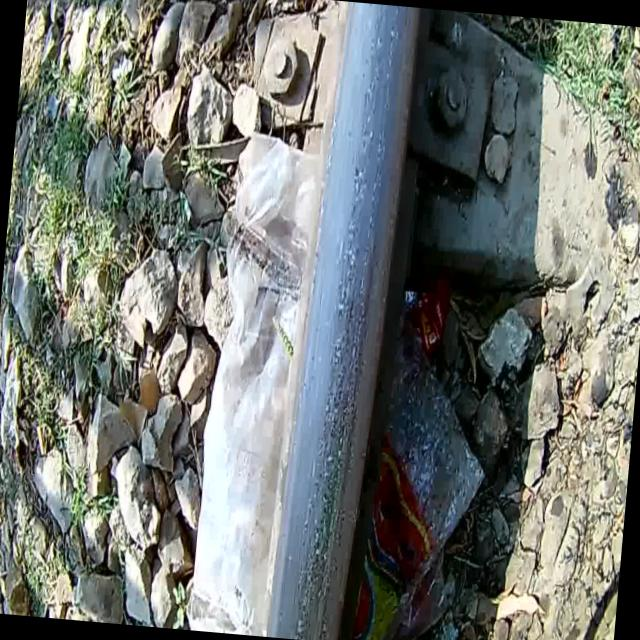Flakings: (287, 1, 404, 640)
